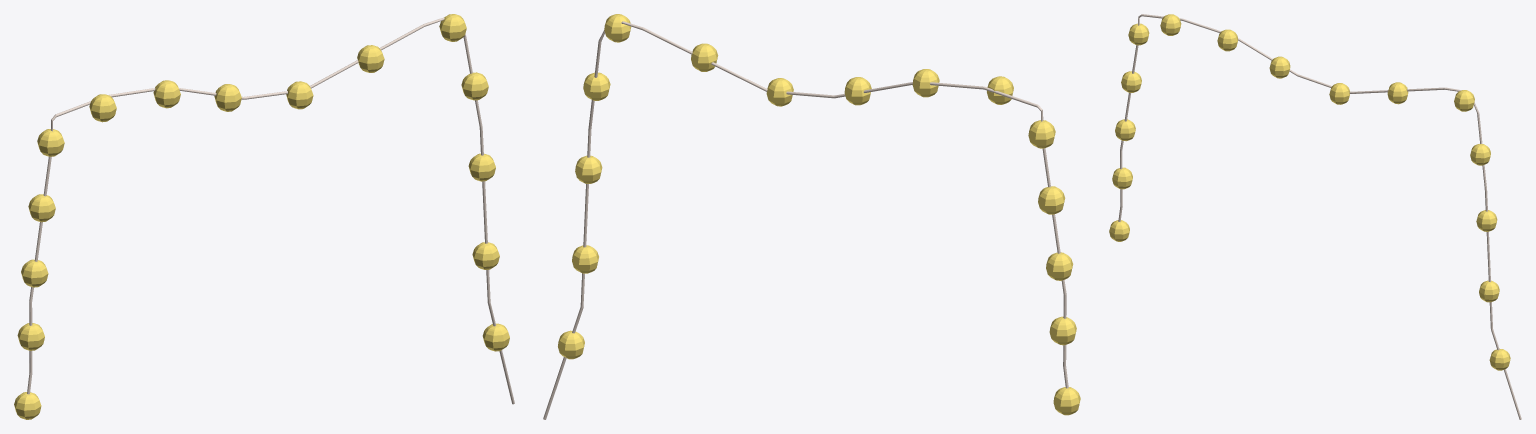
Rendered from Lights.fbx.
3 renders of one model, left to right at view 1: azimuth 30°, elevation 25°; view 2: azimuth 150°, elevation 25°; view 3: azimuth 330°, elevation 25°, orthographic. The views are drawn at different scales.
Visible parts, largest first — view 1: Lights; view 2: Lights; view 3: Lights.
Boxes of the visible parts, x1=… form: Lights: x1=14, y1=14, x2=514, y2=419; Lights: x1=543, y1=14, x2=1080, y2=419; Lights: x1=1109, y1=14, x2=1521, y2=419.
Size of the model in its own units: 361 by 34.35 by 287.
